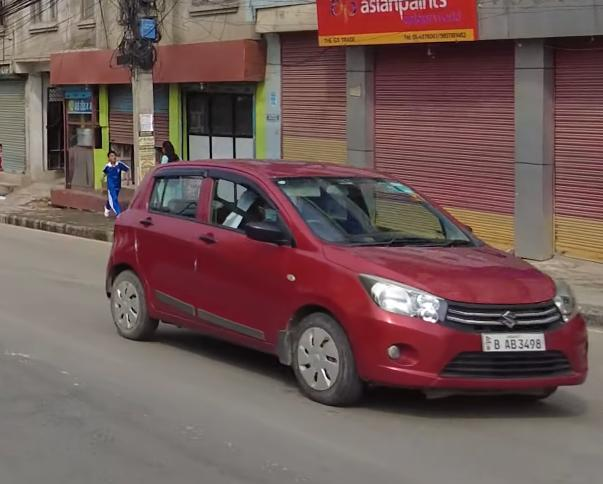car: (96, 153, 593, 414)
